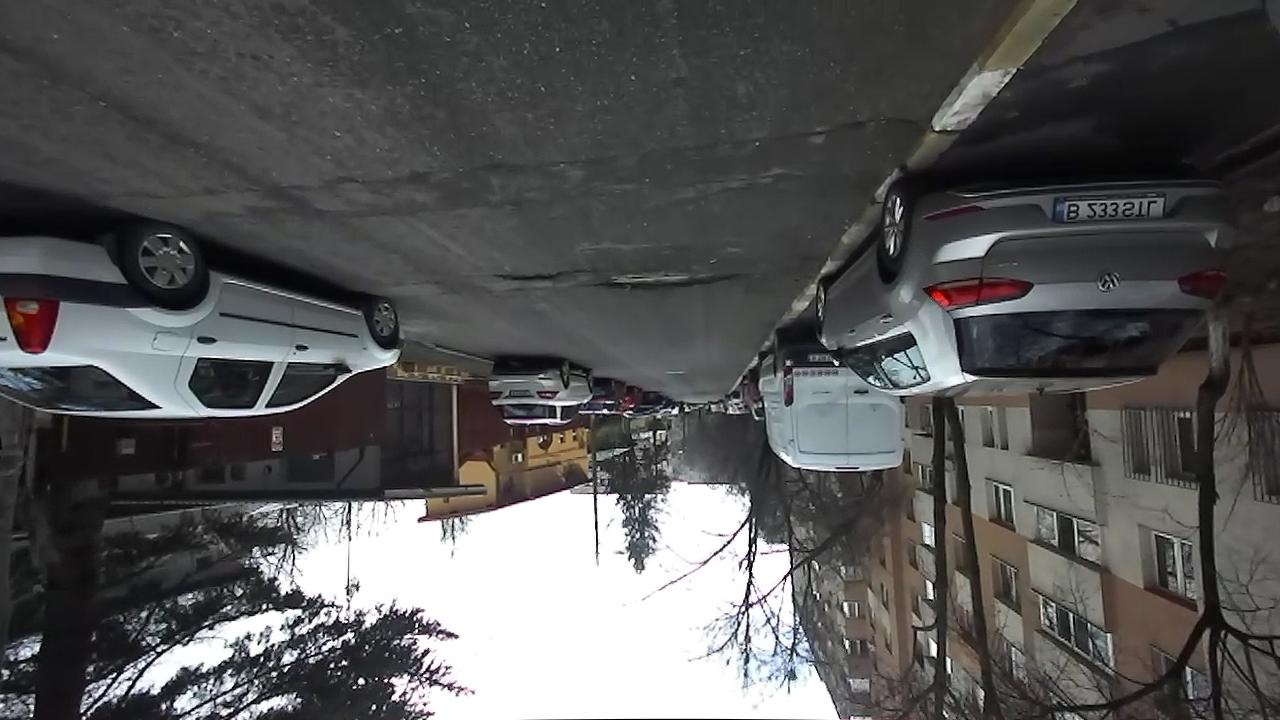pothole: (586, 264, 746, 296), (801, 109, 914, 142), (491, 269, 575, 286)
